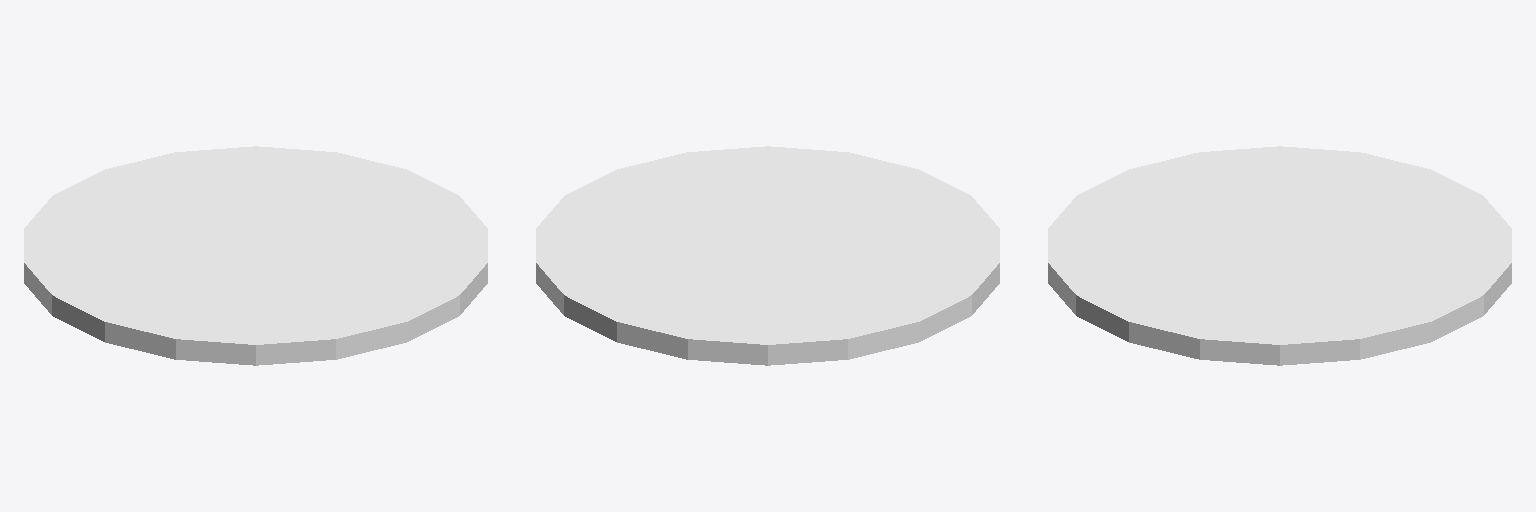
Rendered from tablet_on-stamper_middle.obj.
3 renders of one model, left to right at view 1: azimuth 30°, elevation 25°; view 2: azimuth 150°, elevation 25°; view 3: azimuth 270°, elevation 25°, orthographic.
Parts seen in each view (by area): view 1: tablet_on_stamper_middle; view 2: tablet_on_stamper_middle; view 3: tablet_on_stamper_middle.
Boxes of the visible parts, <box> form: tablet_on_stamper_middle: <box>24,146,487,365</box>; tablet_on_stamper_middle: <box>536,146,999,365</box>; tablet_on_stamper_middle: <box>1048,146,1511,365</box>.
Bounding box in the file's own units: 5.4 × 0.2616 × 5.32.